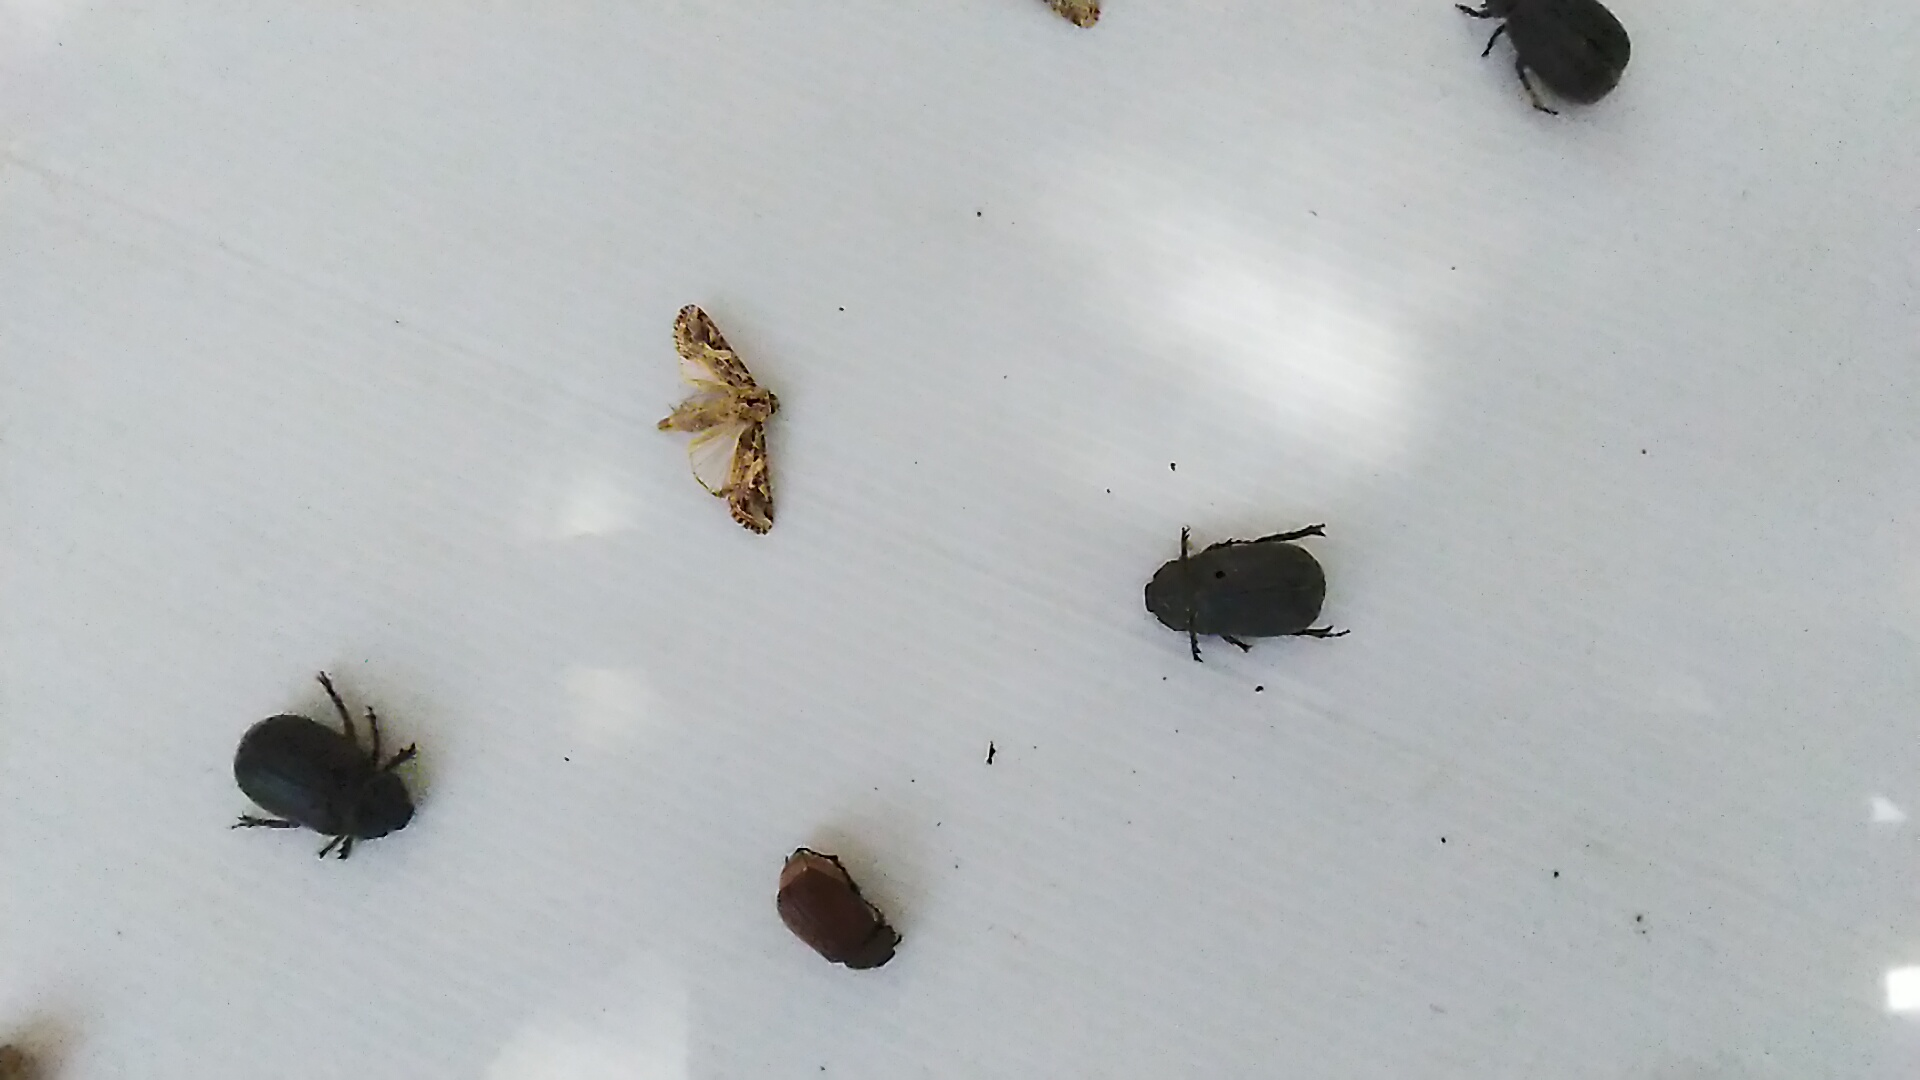INS-A: (216, 663, 427, 861), (1137, 509, 1358, 667), (1489, 1, 1640, 132), (770, 840, 906, 975)
INS-B: (645, 290, 799, 546)
